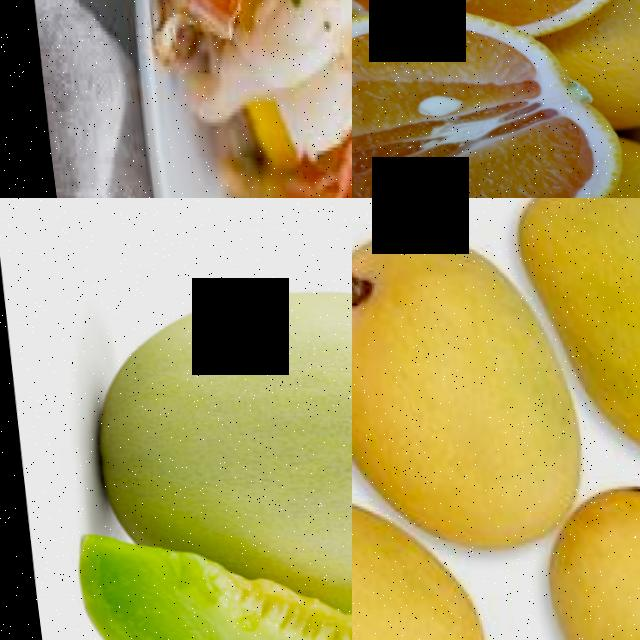lobster tails: (117, 0, 352, 198)
mango: (352, 231, 577, 503), (549, 198, 640, 468), (352, 502, 486, 640)
melon: (66, 277, 352, 560)
orange: (352, 10, 611, 198), (576, 0, 640, 130)
